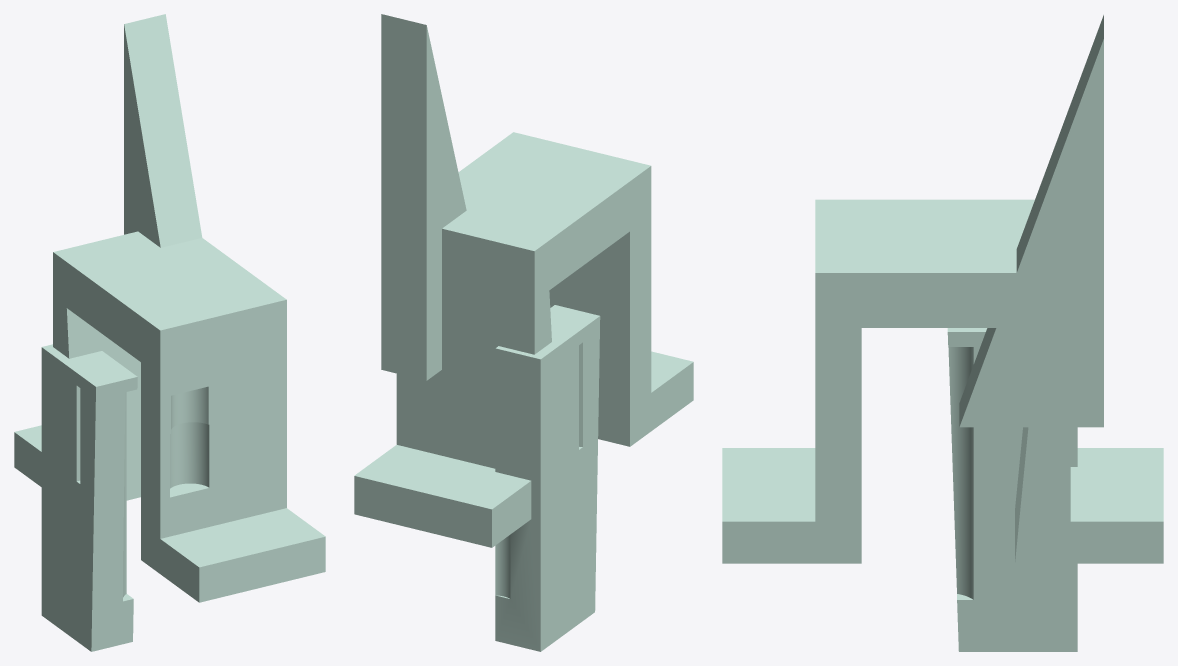
3 renders of one model, left to right at view 1: azimuth 30°, elevation 25°; view 2: azimuth 150°, elevation 25°; view 3: azimuth 270°, elevation 25°, orthographic. The views are drawn at different scales.
Visible parts, largest first — view 1: Renderer Node; view 2: Renderer Node; view 3: Renderer Node.
Part boxes in pixels (x1,y1,x2,y2): Renderer Node: [14, 14, 325, 651]; Renderer Node: [354, 14, 693, 651]; Renderer Node: [722, 15, 1163, 651].
Size of the model in its own units: 0.6094 by 2.41 by 1.45.
